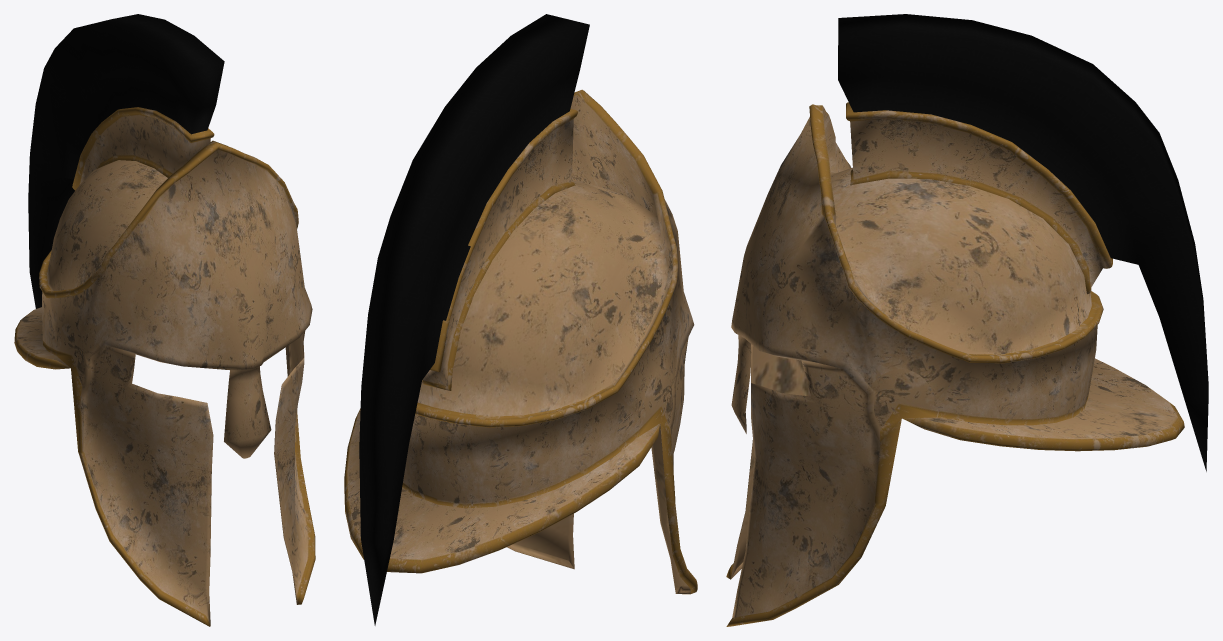
File: spartan_helmet.glb
The picture shows the model from 3 angles, left to right: view 1: azimuth 30°, elevation 25°; view 2: azimuth 150°, elevation 25°; view 3: azimuth 270°, elevation 25°; orthographic projection. The views are drawn at different scales.
Parts seen in each view (by area): view 1: 300 helm, Box001; view 2: 300 helm, Box001; view 3: 300 helm, Box001.
Boxes of the visible parts, left/top/right/bottom form: 300 helm: left=14, top=140, right=315, bottom=626; Box001: left=28, top=14, right=224, bottom=308; 300 helm: left=344, top=89, right=697, bottom=594; Box001: left=359, top=14, right=589, bottom=625; 300 helm: left=726, top=104, right=1184, bottom=626; Box001: left=838, top=14, right=1208, bottom=471.
Bounding box in the file's own units: 90.77 × 194 × 146.
2 materials, 2 textured.
